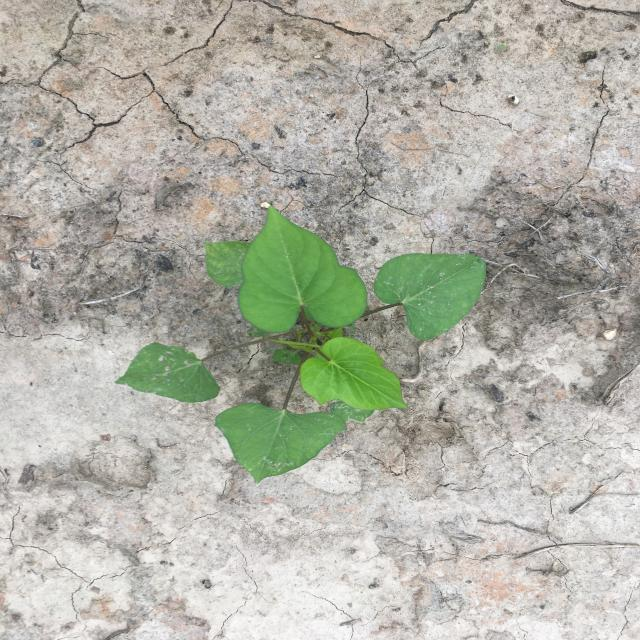MorningGlory: (114, 206, 486, 484)
